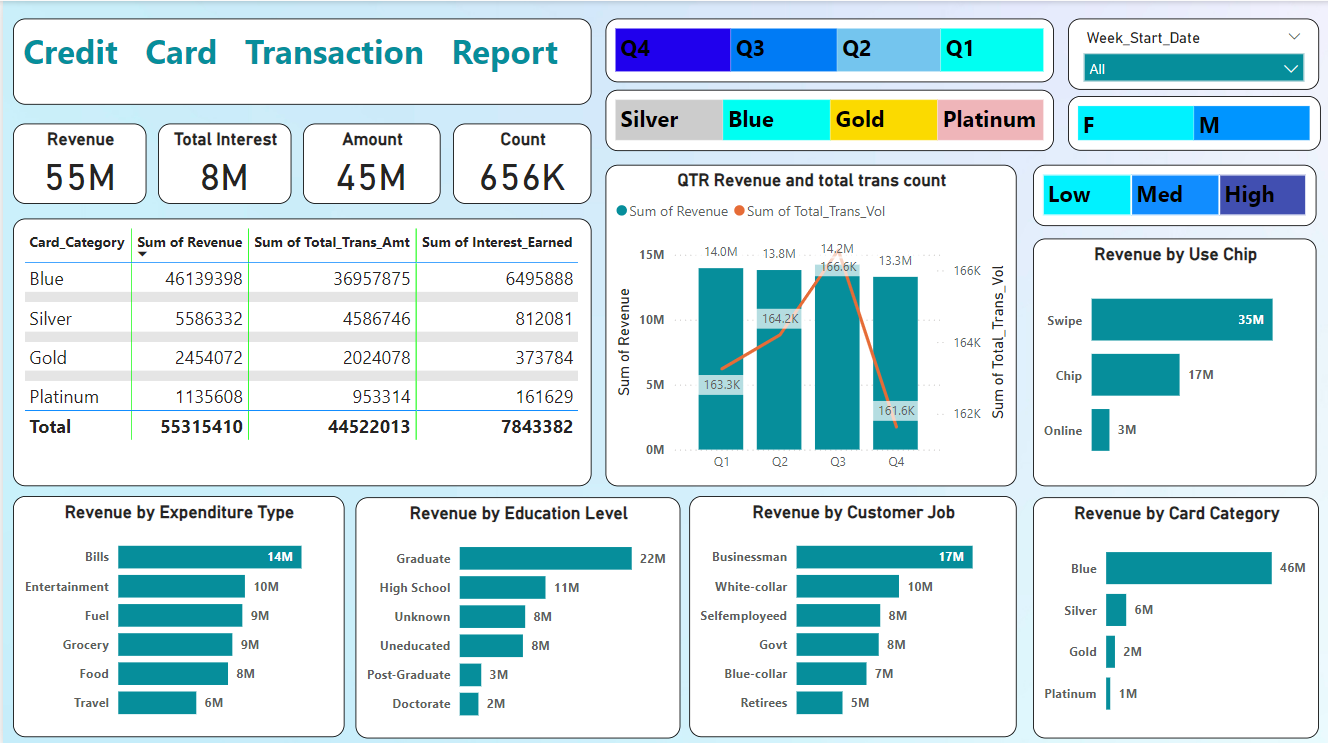

The dashboard page shown, as its layout file describes it:
{"tool":"powerbi","page":{"name":"Credit Card Transaction","canvas":[1280,720],"ordinal":1},"visuals":[{"type":"textbox","box":[9.7,16.9,558.6,83.2],"z":0},{"type":"lineStackedColumnComboChart","title":"QTR Revenue and total trans count","fields":{"Category":["credit_card.Qtr"],"Y":["Sum(credit_card.Revenue)"],"Y2":["Sum(credit_card.Total_Trans_Vol)"]},"box":[581.5,158,396.9,310.1],"z":1000},{"type":"barChart","title":"Revenue by Expenditure Type","fields":{"Category":["credit_card.Exp Type"],"Y":["Sum(credit_card.Revenue)"]},"box":[9.7,477.8,319.7,232.8],"z":2000},{"type":"barChart","title":"Revenue by Education Level","fields":{"Category":["customer.Education_Level"],"Y":["Sum(credit_card.Revenue)"]},"box":[340.2,479,313.7,232.8],"z":3000},{"type":"barChart","title":"Revenue by Customer Job","fields":{"Category":["customer.Customer_Job"],"Y":["Sum(credit_card.Revenue)"]},"box":[662.3,477.8,316.1,232.8],"z":4000},{"type":"barChart","title":"Revenue by Card Category","fields":{"Category":["credit_card.Card_Category"],"Y":["Sum(credit_card.Revenue)"]},"box":[994.1,479,276.3,232.8],"z":5000},{"type":"tableEx","fields":{"Values":["credit_card.Card_Category","Sum(credit_card.Revenue)","Sum(credit_card.Total_Trans_Amt)","Sum(credit_card.Interest_Earned)"]},"box":[9.7,209.9,558.6,258.2],"z":6000},{"type":"card","title":"Revenue","fields":{"Values":["Sum(credit_card.Revenue)"]},"box":[9.7,118.2,129.1,77.2],"z":7000},{"type":"card","title":"Total Interest","fields":{"Values":["Sum(credit_card.Interest_Earned)"]},"box":[149.6,118.2,129.1,77.2],"z":8000},{"type":"card","title":"Amount","fields":{"Values":["Sum(credit_card.Total_Trans_Amt)"]},"box":[289.5,118.2,132.7,77.2],"z":9000},{"type":"card","title":"Count","fields":{"Values":["Sum(credit_card.Total_Trans_Vol)"]},"box":[434.3,118.2,133.9,77.2],"z":10000},{"type":"slicer","fields":{"Values":["credit_card.Week_Start_Date"]},"box":[1027.9,16.9,242.5,68.8],"z":11000},{"type":"treemap","fields":{"Group":["credit_card.Qtr"],"Values":["CountNonNull(credit_card.Use Chip)","Avg(credit_card.Client_Num)"]},"box":[581.5,16.9,433.1,61.5],"z":12000},{"type":"barChart","title":"Revenue by Use Chip","fields":{"Category":["credit_card.Use Chip","credit_card.Card_Category"],"Y":["Sum(credit_card.Revenue)"]},"box":[994.1,229.2,273.9,238.9],"z":13000},{"type":"treemap","fields":{"Group":["customer.Gender"],"Values":["CountNonNull(credit_card.Use Chip)","Avg(credit_card.Client_Num)"]},"box":[1027.9,91.7,243.7,53.1],"z":14000},{"type":"treemap","fields":{"Group":["credit_card.Card_Category"],"Values":["CountNonNull(credit_card.Use Chip)","Avg(credit_card.Client_Num)"]},"box":[581.5,85.7,433.1,59.1],"z":15000},{"type":"treemap","fields":{"Group":["customer.IncomeGroup"],"Values":["CountNonNull(credit_card.Client_Num)"]},"box":[994.1,158,273.9,59.1],"z":16000}]}

Visuals, with their boxes in screenshot pixels (x1, y1, x2, y2), scaled from the page's 1280x720 canvas onto the 1328x743 screenshot:
textbox: box(10, 17, 590, 103)
"QTR Revenue and total trans count" lineStackedColumnComboChart: box(603, 163, 1015, 483)
"Revenue by Expenditure Type" barChart: box(10, 493, 342, 733)
"Revenue by Education Level" barChart: box(353, 494, 678, 735)
"Revenue by Customer Job" barChart: box(687, 493, 1015, 733)
"Revenue by Card Category" barChart: box(1031, 494, 1318, 735)
tableEx - credit_card.Card_Category x Sum(credit_card.Revenue): box(10, 217, 590, 483)
"Revenue" card: box(10, 122, 144, 202)
"Total Interest" card: box(155, 122, 289, 202)
"Amount" card: box(300, 122, 438, 202)
"Count" card: box(451, 122, 590, 202)
slicer - credit_card.Week_Start_Date: box(1066, 17, 1318, 88)
treemap - credit_card.Qtr x CountNonNull(credit_card.Use Chip): box(603, 17, 1053, 81)
"Revenue by Use Chip" barChart: box(1031, 237, 1316, 483)
treemap - customer.Gender x CountNonNull(credit_card.Use Chip): box(1066, 95, 1319, 149)
treemap - credit_card.Card_Category x CountNonNull(credit_card.Use Chip): box(603, 88, 1053, 149)
treemap - customer.IncomeGroup x CountNonNull(credit_card.Client_Num): box(1031, 163, 1316, 224)
